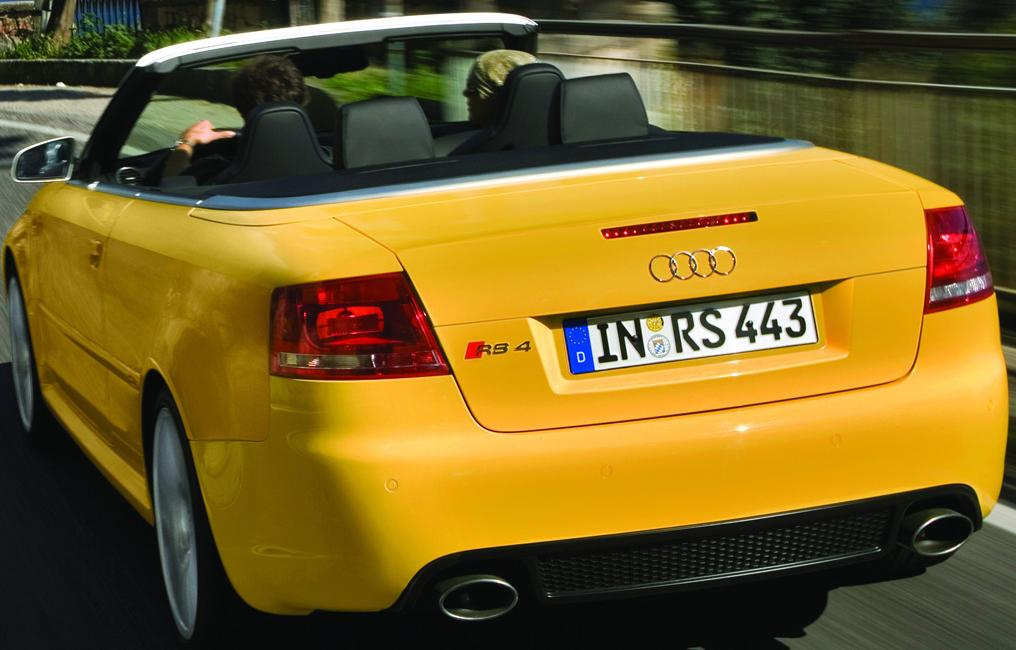back_view: (200, 238, 1012, 613)
backlight: (262, 270, 462, 393)
